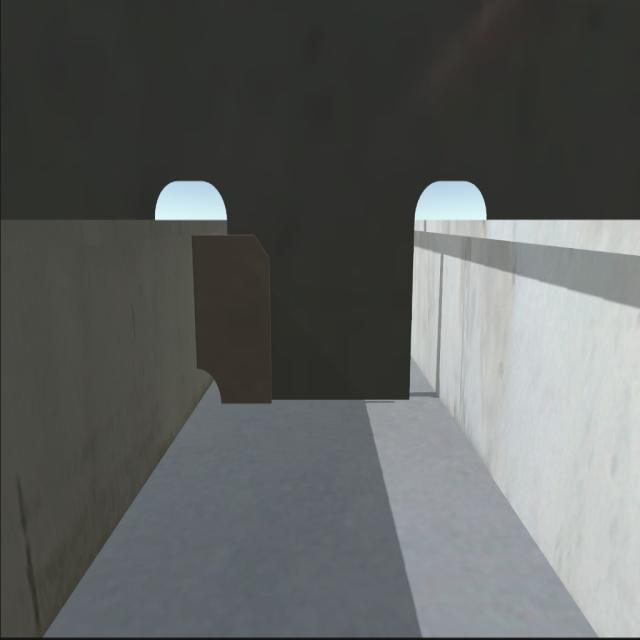fillet_hole: (192, 366, 228, 412)
fillet_yong_jeop_jang: (221, 393, 417, 411)
longi_yong_jeop_jang: (190, 233, 203, 365)
plate_CP03: (191, 231, 276, 405)
